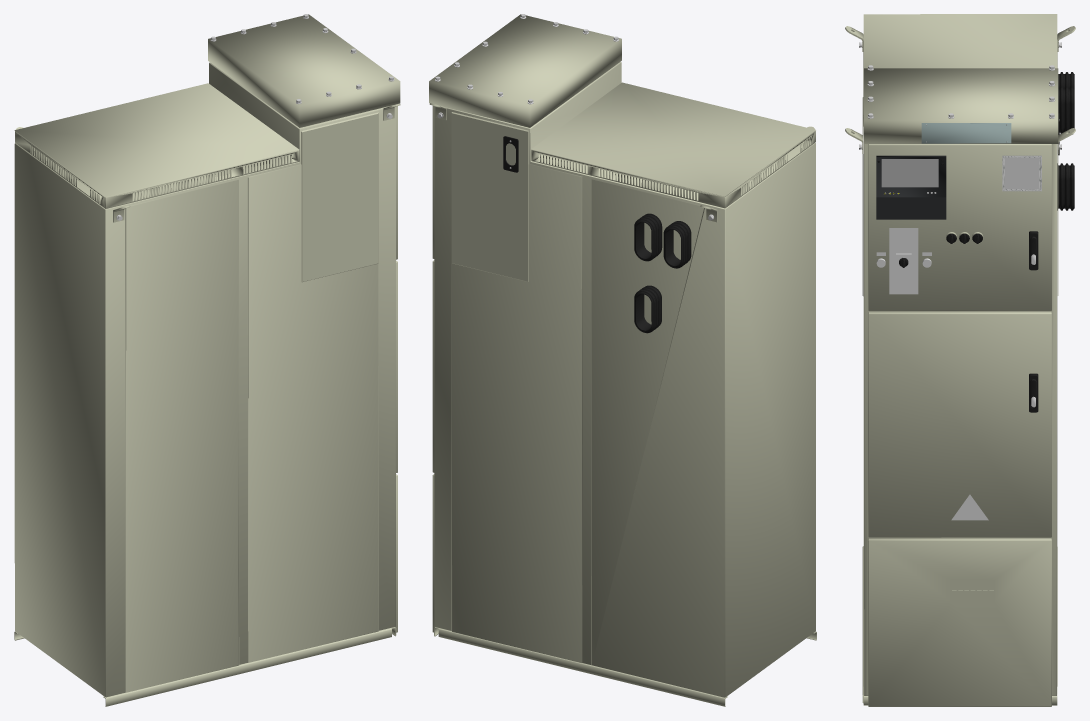
Rendered from FIder_rigth.fbx.
The picture shows the model from 3 angles, left to right: view 1: azimuth 30°, elevation 25°; view 2: azimuth 150°, elevation 25°; view 3: azimuth 270°, elevation 25°; orthographic projection. The views are drawn at different scales.
Visible parts, largest first — view 1: Шкаф; view 2: Шкаф, Накладки шин; view 3: Шкаф, Подпись шкафа, Plane, Накладки шин, Табло, Часть экрана, Экран, Амперметр, Предупреждающий знак, Подложка амперметра.
Boxes of the visible parts, x1,y1,x2,y2 form: Шкаф: [14, 14, 400, 706]; Шкаф: [429, 14, 816, 706]; Накладки шин: [634, 213, 691, 333]; Шкаф: [845, 14, 1075, 706]; Подпись шкафа: [921, 123, 1011, 143]; Plane: [889, 228, 918, 294]; Накладки шин: [1057, 72, 1074, 210]; Табло: [881, 159, 938, 187]; Часть экрана: [876, 197, 946, 219]; Экран: [876, 155, 946, 197]; Амперметр: [1005, 158, 1038, 188]; Предупреждающий знак: [951, 494, 988, 520]; Подложка амперметра: [1002, 155, 1041, 191].
Bounding box in the file's own units: 142 × 251 × 88.94.
